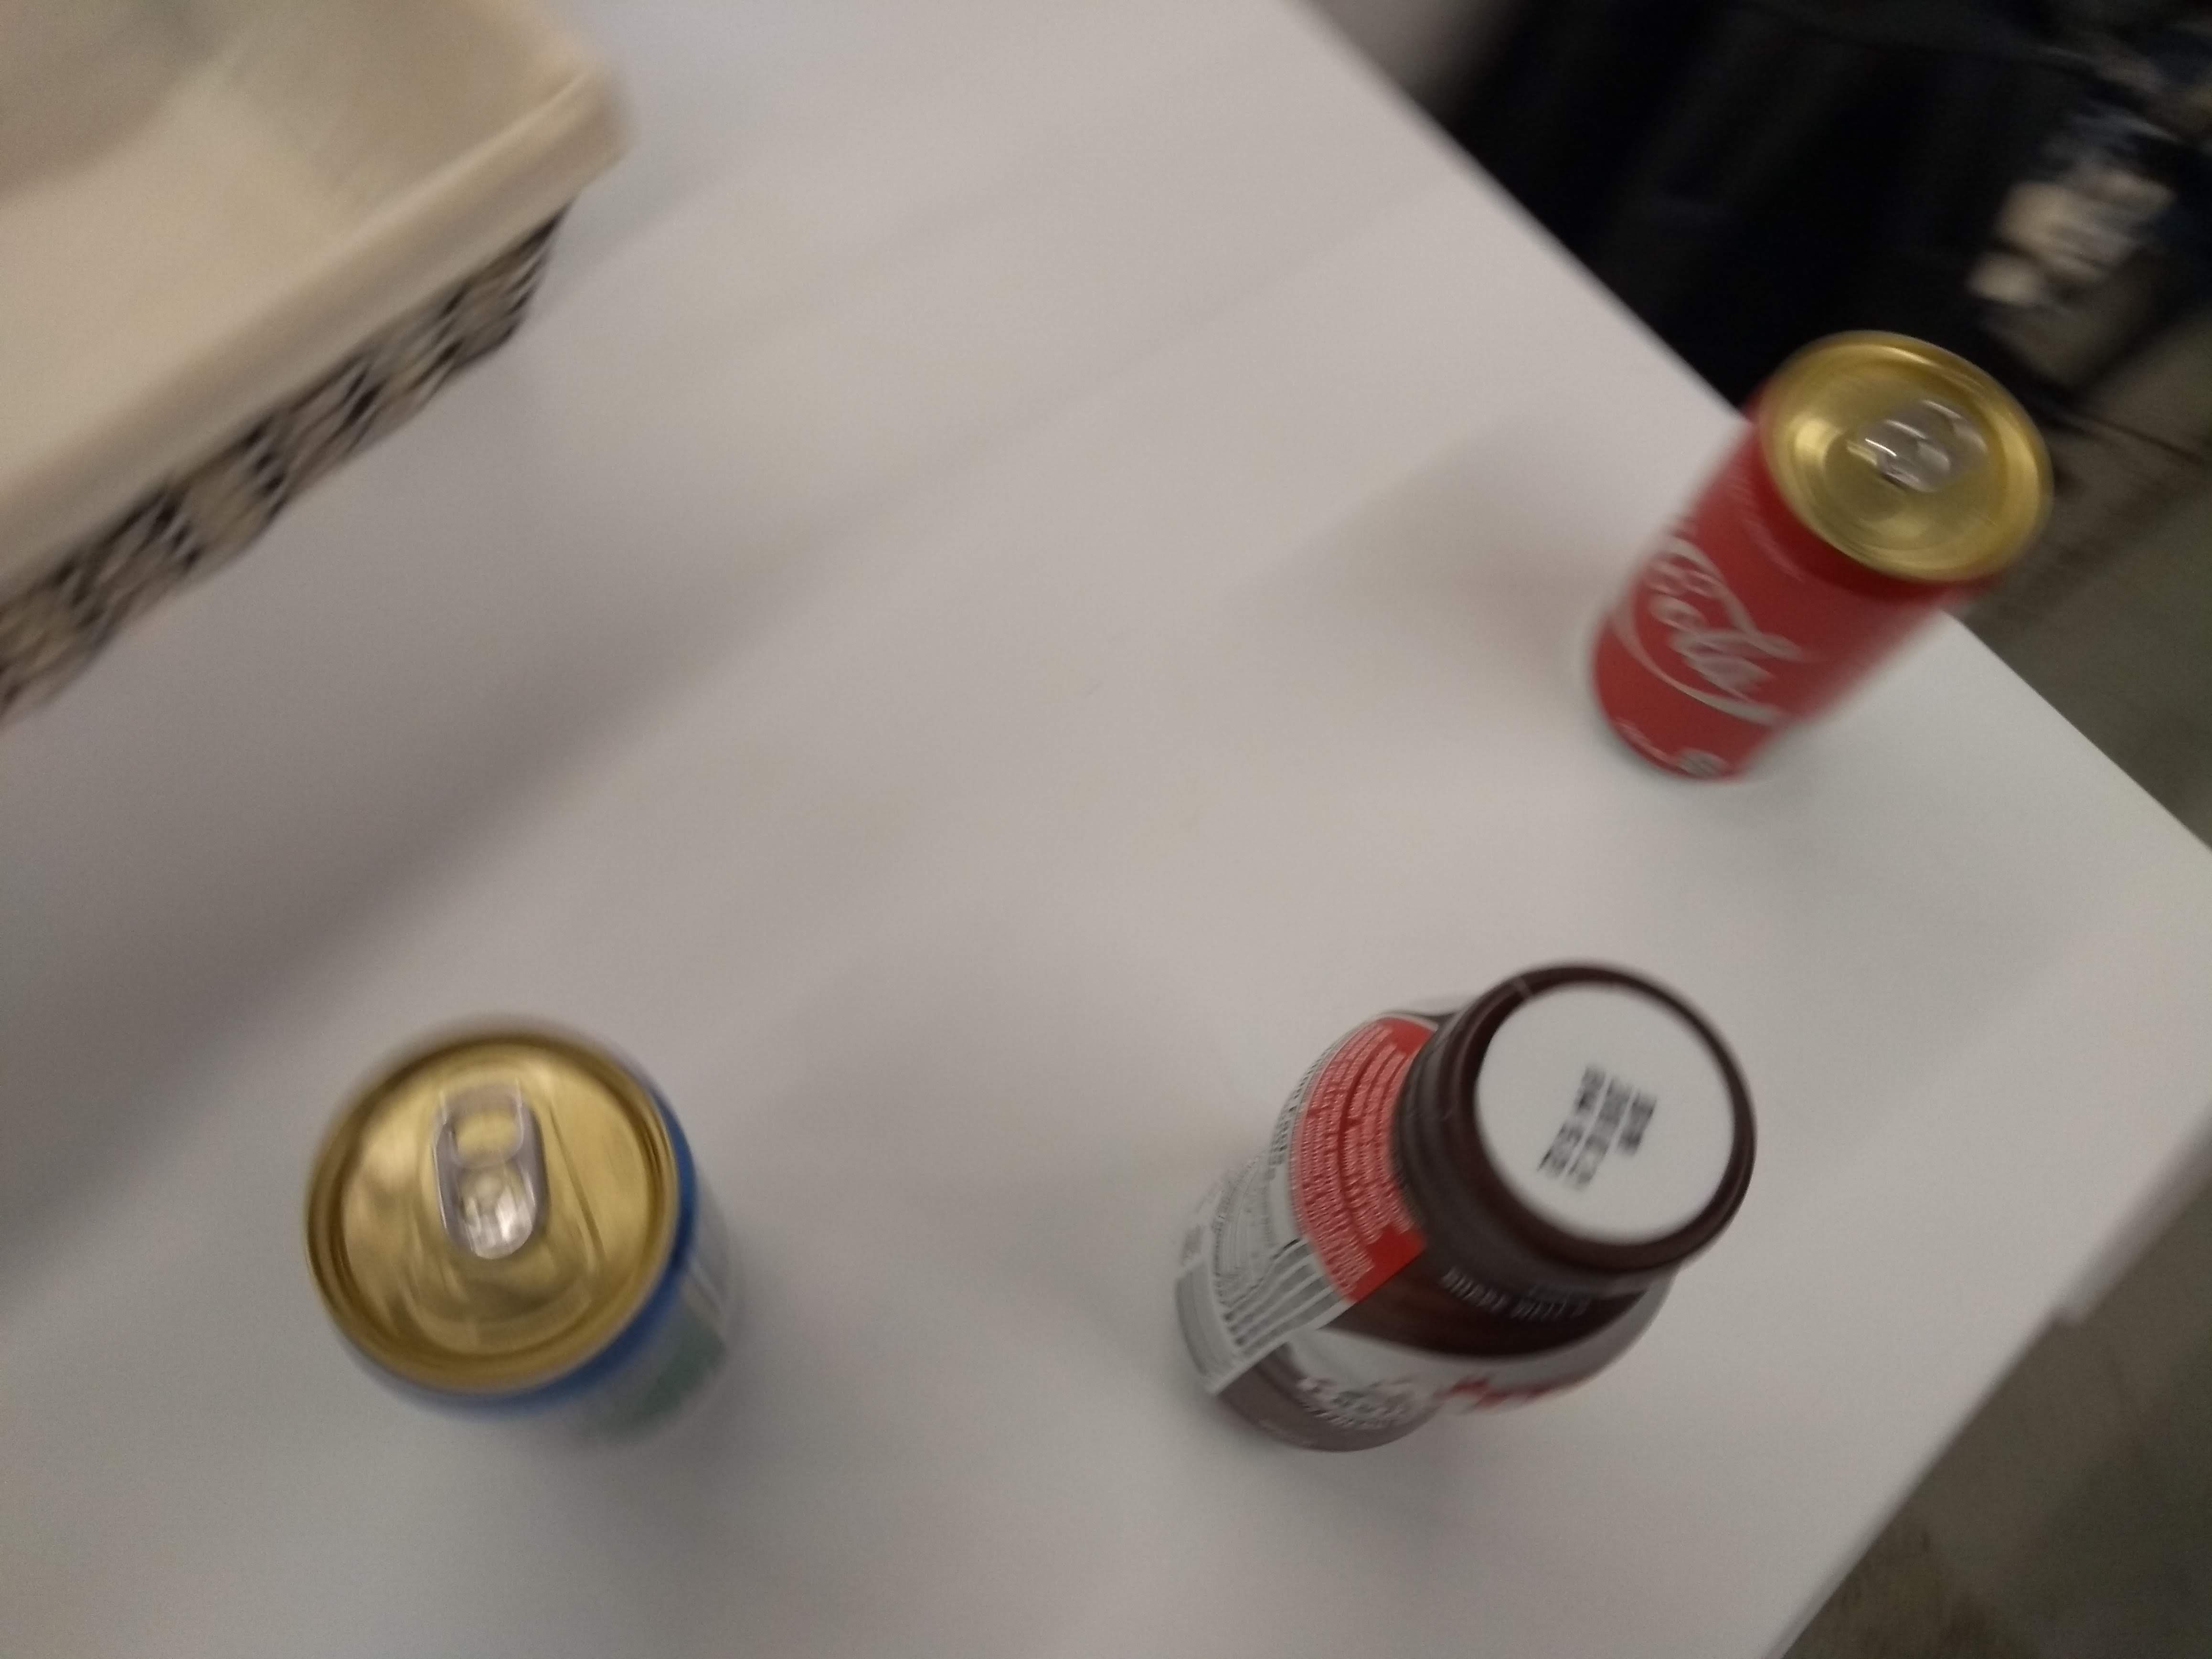chocolate_drink: (1146, 943, 1778, 1471)
coke: (1571, 331, 2071, 791)
sprite: (279, 997, 773, 1471)
